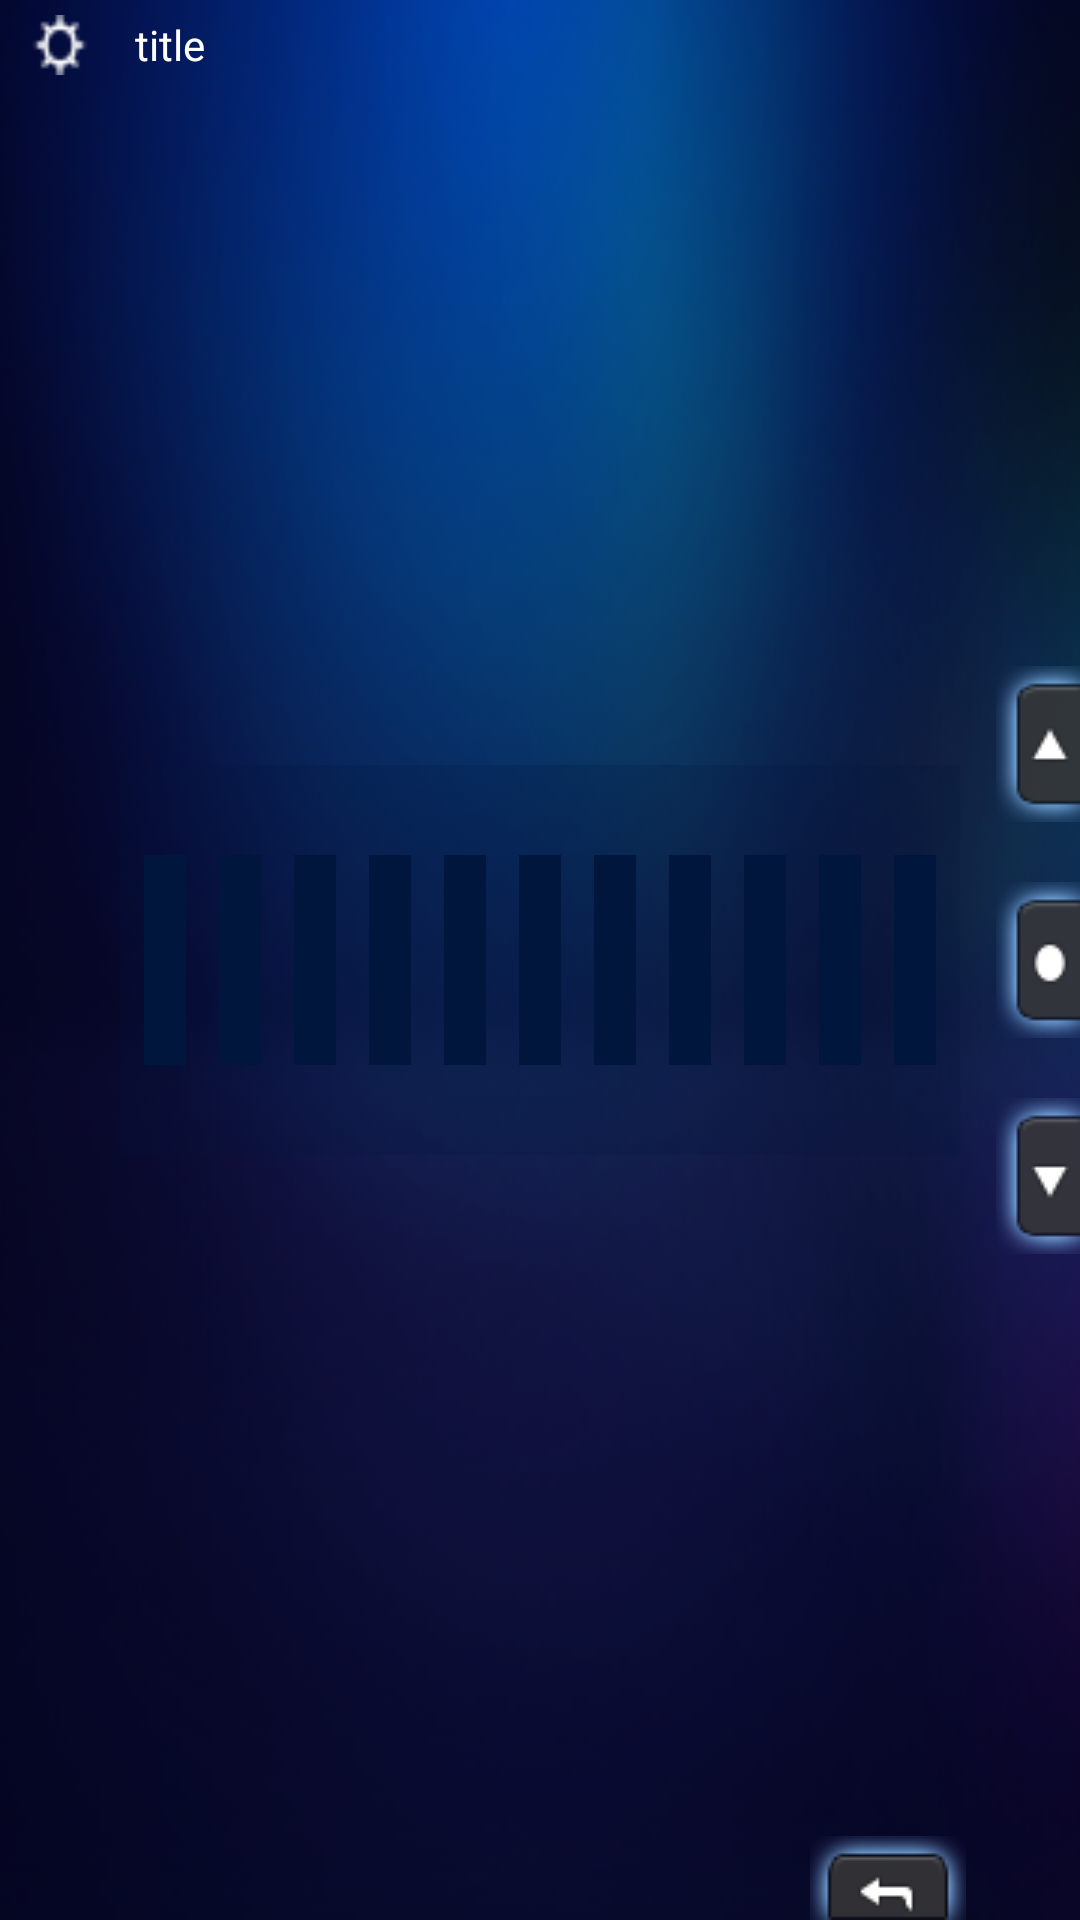

Icon click points for this 1080x1920 phone screenshot, format (x,y):
sub setting: (60,45)
tag menu main back: (887,1878)
tag menu main enter: (1040,960)
tag menu main movedown: (1040,1176)
tag menu main moveup: (1040,745)
